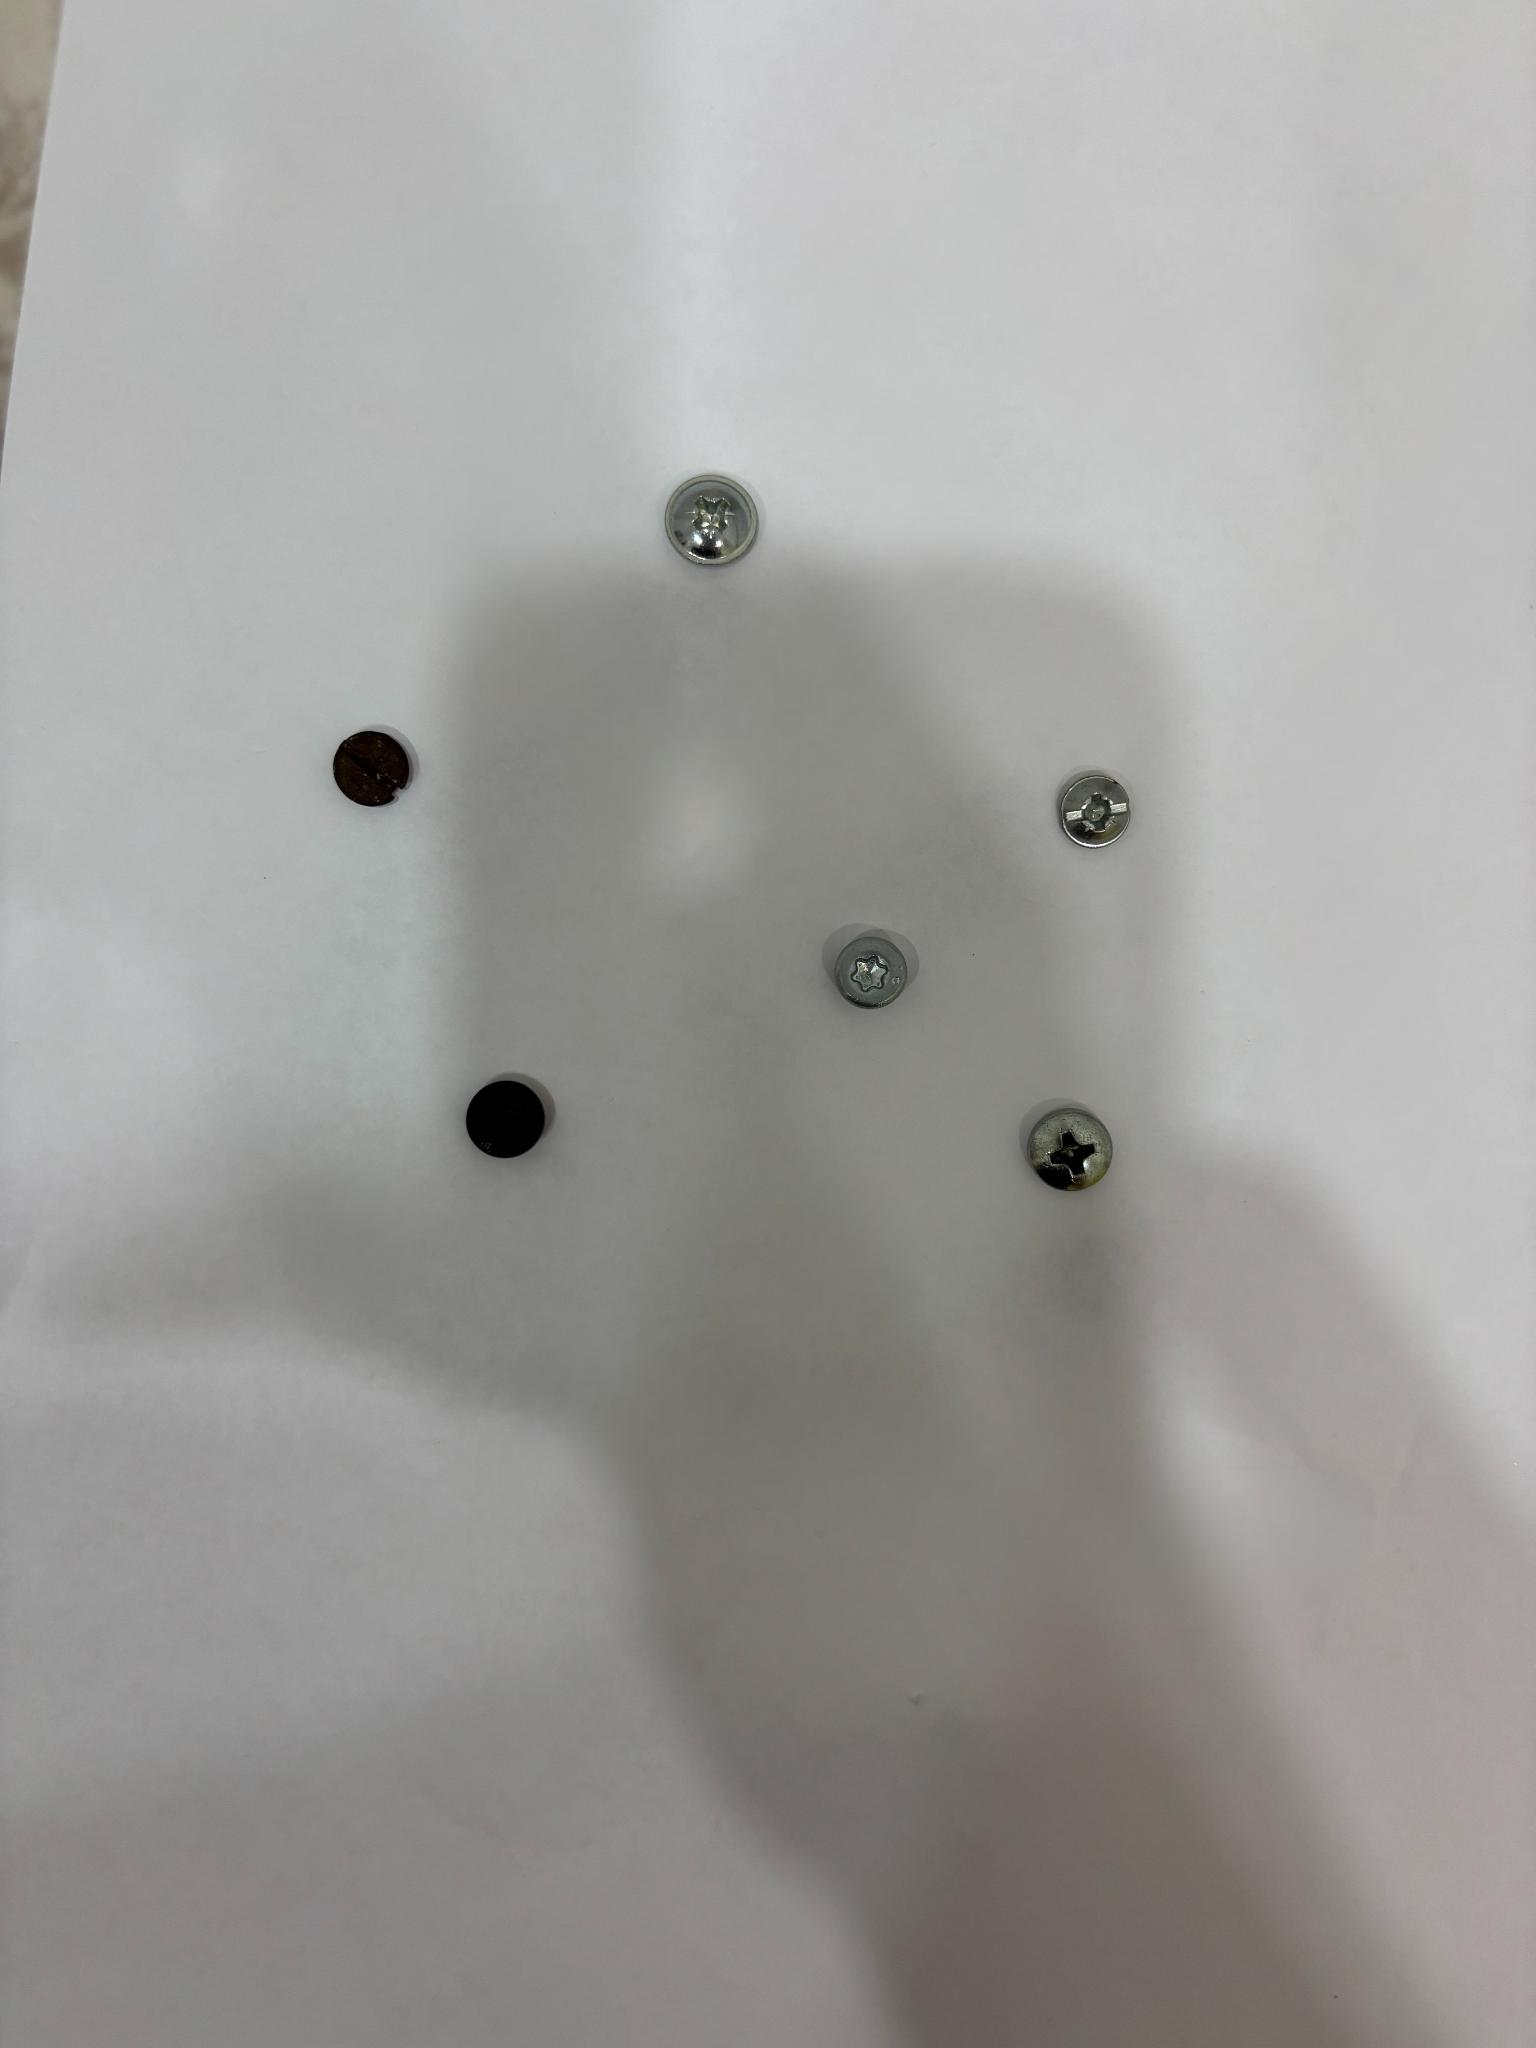H: (466, 1080, 547, 1158)
PH: (1024, 1104, 1113, 1192)
PZ: (664, 475, 758, 568), (1058, 773, 1130, 848)
SL: (333, 731, 412, 807)
T: (831, 931, 909, 1009)
